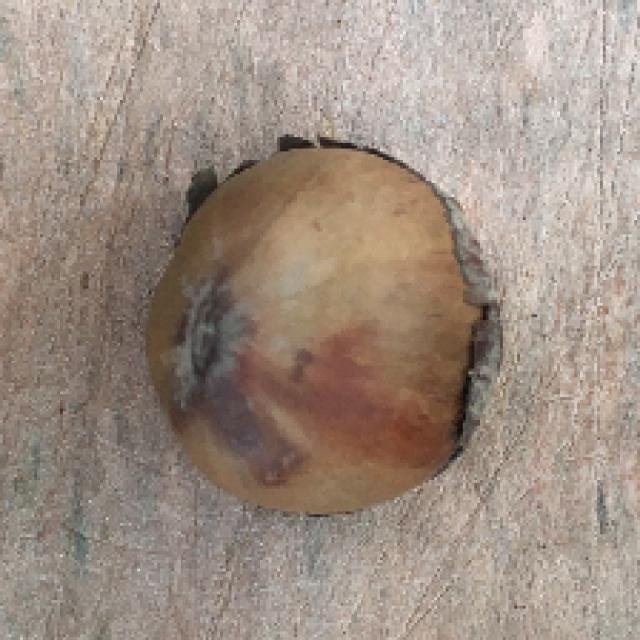damagedHazelnut: (145, 139, 505, 517)
